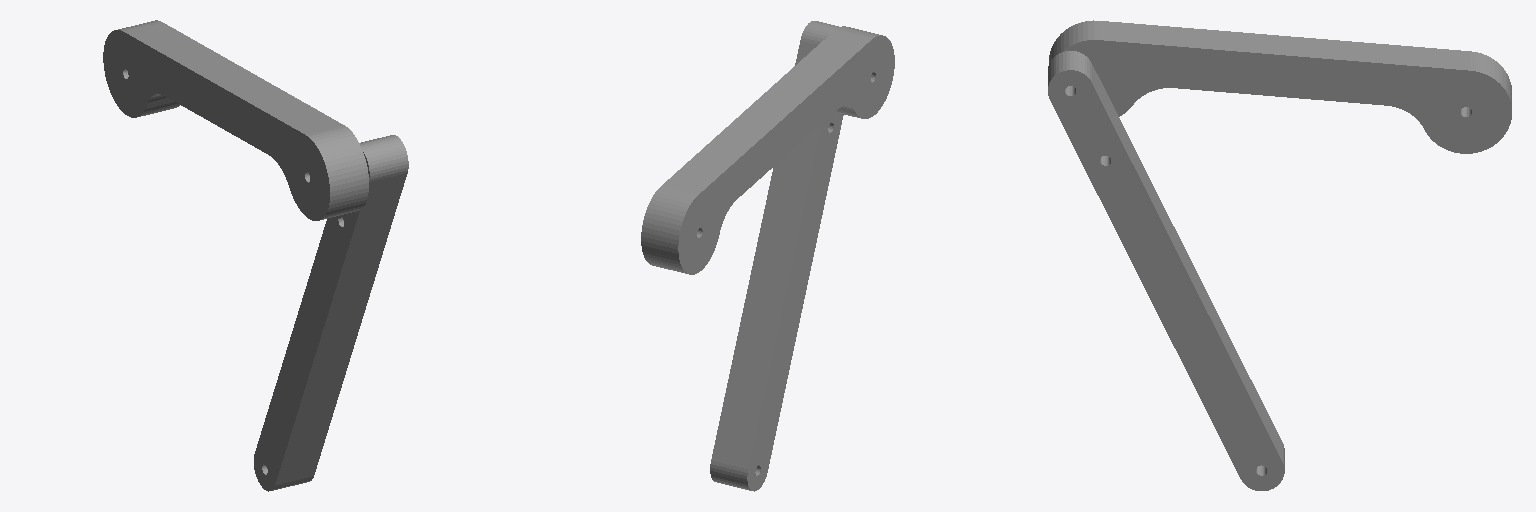
URDF robot description (TWLR):
<?xml version="1.0"?>
<robot name="TWLR">

  <!-- Materials -->
  <material name="material">
    <color rgba="0.627 0.627 0.627 1.0"/>
  </material>

  <link name="base_link">
    <inertial>
      <origin xyz="-0.009947 0.139666 0.083952" rpy="0 0 0"/>
      <mass value="46.804719"/>
      <inertia ixx="2.702471e-01" ixy="-1.769772e-02" ixz="4.818044e-03"
               iyy="2.854305e-01" iyz="5.655543e-02" izz="3.571536e-01"/>
    </inertial>
    <visual>
      <origin xyz="0.000000 0.000000 0.000000" rpy="0 0 0"/>
      <geometry>
        <mesh filename="package://TWLR_description/meshes/TWLR/base_link.dae" scale="1 1 1"/>
      </geometry>
      <material name="material"/>
    </visual>
    <collision>
      <origin xyz="0.000000 0.000000 0.000000" rpy="0 0 0"/>
      <geometry>
        <mesh filename="package://TWLR_description/meshes/TWLR/base_link_collision.stl" scale="0.01 0.01 0.01"/>
      </geometry>
    </collision>
  </link>

  <link name="link1_right">
    <inertial>
      <origin xyz="0.000000 0.081855 -0.058806" rpy="0 0 0"/>
      <mass value="0.668075"/>
      <inertia ixx="2.577738e-03" ixy="2.710505e-20" ixz="1.084202e-19"
               iyy="6.777796e-04" iyz="1.097009e-03" izz="1.944497e-03"/>
    </inertial>
    <visual>
      <origin xyz="-0.003370 -0.005265 -0.247899" rpy="0 0 0"/>
      <geometry>
        <mesh filename="package://TWLR_description/meshes/TWLR/link1_right.dae" scale="1 1 1"/>
      </geometry>
      <material name="material"/>
    </visual>
    <collision>
      <origin xyz="-0.003370 -0.005265 -0.247899" rpy="0 0 0"/>
      <geometry>
        <mesh filename="package://TWLR_description/meshes/TWLR/link1_right_collision.stl" scale="0.01 0.01 0.01"/>
      </geometry>
    </collision>
  </link>

  <link name="link3_right">
    <inertial>
      <origin xyz="-0.020000 -0.091241 -0.155189" rpy="0 0 0"/>
      <mass value="0.808579"/>
      <inertia ixx="3.288359e-03" ixy="2.710505e-19" ixz="-5.421011e-20"
               iyy="8.867435e-04" iyz="1.358601e-03" izz="2.455521e-03"/>
    </inertial>
    <visual>
      <origin xyz="-0.023370 0.034915 -0.081594" rpy="0 0 0"/>
      <geometry>
        <mesh filename="package://TWLR_description/meshes/TWLR/link3_right.dae" scale="1 1 1"/>
      </geometry>
      <material name="material"/>
    </visual>
    <collision>
      <origin xyz="-0.023370 0.034915 -0.081594" rpy="0 0 0"/>
      <geometry>
        <mesh filename="package://TWLR_description/meshes/TWLR/link3_right_collision.stl" scale="0.01 0.01 0.01"/>
      </geometry>
    </collision>
  </link>

  <link name="link1_left">
    <inertial>
      <origin xyz="0.000000 0.078161 -0.063634" rpy="0 0 0"/>
      <mass value="0.668075"/>
      <inertia ixx="2.577738e-03" ixy="1.040834e-17" ixz="0.000000e+00"
               iyy="8.144220e-04" iyz="1.165266e-03" izz="1.807854e-03"/>
    </inertial>
    <visual>
      <origin xyz="-0.374349 0.151319 -0.177245" rpy="0 0 0"/>
      <geometry>
        <mesh filename="package://TWLR_description/meshes/TWLR/link1_left.dae" scale="1 1 1"/>
      </geometry>
      <material name="material"/>
    </visual>
    <collision>
      <origin xyz="-0.374349 0.151319 -0.177245" rpy="0 0 0"/>
      <geometry>
        <mesh filename="package://TWLR_description/meshes/TWLR/link1_left_collision.stl" scale="0.01 0.01 0.01"/>
      </geometry>
    </collision>
  </link>

  <link name="wheel_right">
    <inertial>
      <origin xyz="0.023768 0.026564 0.007725" rpy="0 0 0"/>
      <mass value="6.891403"/>
      <inertia ixx="1.292275e-02" ixy="-3.373183e-06" ixz="1.160100e-07"
               iyy="2.386323e-02" iyz="6.269302e-09" izz="1.292376e-02"/>
    </inertial>
    <visual>
      <origin xyz="0.009205 0.026024 -0.166165" rpy="0 0 0"/>
      <geometry>
        <mesh filename="package://TWLR_description/meshes/TWLR/wheel_right.dae" scale="1 1 1"/>
      </geometry>
      <material name="material"/>
    </visual>
    <collision>
      <origin xyz="0.009205 0.026024 -0.166165" rpy="0 0 0"/>
      <geometry>
        <mesh filename="package://TWLR_description/meshes/TWLR/wheel_right_collision.stl" scale="0.01 0.01 0.01"/>
      </geometry>
    </collision>
  </link>

  <link name="link3_left">
    <inertial>
      <origin xyz="-0.020000 -0.079980 0.161282" rpy="0 0 0"/>
      <mass value="0.808579"/>
      <inertia ixx="3.288359e-03" ixy="3.469447e-18" ixz="-1.387779e-17"
               iyy="7.414920e-04" iyz="-1.263658e-03" izz="2.600773e-03"/>
    </inertial>
    <visual>
      <origin xyz="-0.374349 -0.004516 -0.050298" rpy="0 0 0"/>
      <geometry>
        <mesh filename="package://TWLR_description/meshes/TWLR/link3_left.dae" scale="1 1 1"/>
      </geometry>
      <material name="material"/>
    </visual>
    <collision>
      <origin xyz="-0.374349 -0.004516 -0.050298" rpy="0 0 0"/>
      <geometry>
        <mesh filename="package://TWLR_description/meshes/TWLR/link3_left_collision.stl" scale="0.01 0.01 0.01"/>
      </geometry>
    </collision>
  </link>

  <link name="wheel_left">
    <inertial>
      <origin xyz="0.023768 0.026564 -0.007725" rpy="0 0 0"/>
      <mass value="6.891403"/>
      <inertia ixx="1.292275e-02" ixy="-3.373177e-06" ixz="-1.160037e-07"
               iyy="2.386323e-02" iyz="-6.237206e-09" izz="1.292376e-02"/>
    </inertial>
    <visual>
      <origin xyz="0.084205 0.376024 0.321165" rpy="0 0 0"/>
      <geometry>
        <mesh filename="package://TWLR_description/meshes/TWLR/wheel_left.dae" scale="1 1 1"/>
      </geometry>
      <material name="material"/>
    </visual>
    <collision>
      <origin xyz="0.084205 0.376024 0.321165" rpy="0 0 0"/>
      <geometry>
        <mesh filename="package://TWLR_description/meshes/TWLR/wheel_left_collision.stl" scale="0.01 0.01 0.01"/>
      </geometry>
    </collision>
  </link>

  <joint name="hip_right" type="continuous">
    <parent link="base_link"/>
    <child link="link1_right"/>
    <origin xyz="0.123370 -0.038877 0.160846" rpy="-0.619267 -0.000000 0.000000"/>
    <axis xyz="1.000000 0.000000 0.000000"/>
    <limit effort="100.0" velocity="1.00"/>
  </joint>

  <joint name="knee_right" type="continuous">
    <parent link="link1_right"/>
    <child link="link3_right"/>
    <origin xyz="0.000000 0.163205 -0.117321" rpy="-2.089403 -0.000000 0.000000"/>
    <axis xyz="1.000000 0.000000 0.000000"/>
    <limit effort="100.0" velocity="1.00"/>
  </joint>

  <joint name="hip_left" type="continuous">
    <parent link="link1_right"/>
    <child link="link1_left"/>
    <origin xyz="0.000000 0.000000 -0.000000" rpy="0.060327 -0.000000 0.000000"/>
    <axis xyz="1.000000 0.000000 0.000000"/>
    <limit effort="100.0" velocity="1.00"/>
  </joint>

  <joint name="wheel_right" type="continuous">
    <parent link="link3_right"/>
    <child link="wheel_right"/>
    <origin xyz="0.039494 -0.006035 0.007648" rpy="-3.141593 0.991862 1.570796"/>
    <axis xyz="0.309017 -0.000000 -0.951057"/>
    <limit effort="100.0" velocity="1.00"/>
  </joint>

  <joint name="knee_left" type="continuous">
    <parent link="link1_left"/>
    <child link="link3_left"/>
    <origin xyz="0.000000 0.155835 -0.126947" rpy="0.000000 -0.000000 0.000000"/>
    <axis xyz="1.000000 0.000000 0.000000"/>
    <limit effort="100.0" velocity="1.00"/>
  </joint>

  <joint name="wheel_left" type="continuous">
    <parent link="link3_left"/>
    <child link="wheel_left"/>
    <origin xyz="-0.303192 0.024704 -0.014133" rpy="3.141593 -0.000000 -1.570796"/>
    <axis xyz="-0.309017 0.000000 -0.951057"/>
    <limit effort="100.0" velocity="1.00"/>
  </joint>

  <!-- ROS 2 control: generated generic system -->
  <ros2_control name="TWLR_system" type="system">
    <hardware>
      <plugin>mock_components/GenericSystem</plugin>
      <param name="cmd_topic">sim/TWLR_system/cmd</param>
      <param name="state_topic">sim/TWLR_system/state</param>
    </hardware>

    <joint name="hip_left">
      <command_interface name="position"/>
      <command_interface name="velocity"/>
      <state_interface name="position">
        <param name="initial_value">0.0</param>
      </state_interface>
      <state_interface name="velocity"/>
      <state_interface name="effort"/>
    </joint>
    <joint name="hip_right">
      <command_interface name="position"/>
      <command_interface name="velocity"/>
      <state_interface name="position">
        <param name="initial_value">0.0</param>
      </state_interface>
      <state_interface name="velocity"/>
      <state_interface name="effort"/>
    </joint>
    <joint name="knee_left">
      <command_interface name="position"/>
      <command_interface name="velocity"/>
      <state_interface name="position">
        <param name="initial_value">0.0</param>
      </state_interface>
      <state_interface name="velocity"/>
      <state_interface name="effort"/>
    </joint>
    <joint name="knee_right">
      <command_interface name="position"/>
      <command_interface name="velocity"/>
      <state_interface name="position">
        <param name="initial_value">0.0</param>
      </state_interface>
      <state_interface name="velocity"/>
      <state_interface name="effort"/>
    </joint>
    <joint name="wheel_left">
      <command_interface name="position"/>
      <command_interface name="velocity"/>
      <state_interface name="position">
        <param name="initial_value">0.0</param>
      </state_interface>
      <state_interface name="velocity"/>
      <state_interface name="effort"/>
    </joint>
    <joint name="wheel_right">
      <command_interface name="position"/>
      <command_interface name="velocity"/>
      <state_interface name="position">
        <param name="initial_value">0.0</param>
      </state_interface>
      <state_interface name="velocity"/>
      <state_interface name="effort"/>
    </joint>
  </ros2_control>

</robot>

--- Render facts (derived) ---
3 views of the same robot in one strip: view 1: azimuth 30°, elevation 25°; view 2: azimuth 150°, elevation 25°; view 3: azimuth 270°, elevation 25° (orthographic).
Model TWLR with 7 links and 6 joints (6 continuous), rooted at base_link, posed every joint at zero.
Visible links, largest first — view 1: link1_left, link3_left, link3_right, link1_right; view 2: link1_right, link3_left, link3_right, link1_left; view 3: link3_left, link1_right, link1_left, link3_right.
Boxes of the visible links, left/top/right/bottom form: link1_left: left=257, top=138, right=408, bottom=490; link3_left: left=103, top=20, right=368, bottom=220; link3_right: left=103, top=21, right=368, bottom=220; link1_right: left=254, top=135, right=407, bottom=491; link1_right: left=710, top=21, right=843, bottom=491; link3_left: left=641, top=26, right=894, bottom=274; link3_right: left=641, top=28, right=894, bottom=274; link1_left: left=756, top=21, right=838, bottom=475; link3_left: left=1049, top=21, right=1511, bottom=153; link1_right: left=1048, top=51, right=1284, bottom=490; link1_left: left=1048, top=52, right=1276, bottom=480; link3_right: left=1053, top=20, right=1508, bottom=115.
Size in the robot's own frame: 0.04 by 0.2018 by 0.2071 metres.
4 mesh visuals loaded from 7 distinct referenced files (4 Collada DAE); not drawn: 3 (reference not matched to a file when rendering).
